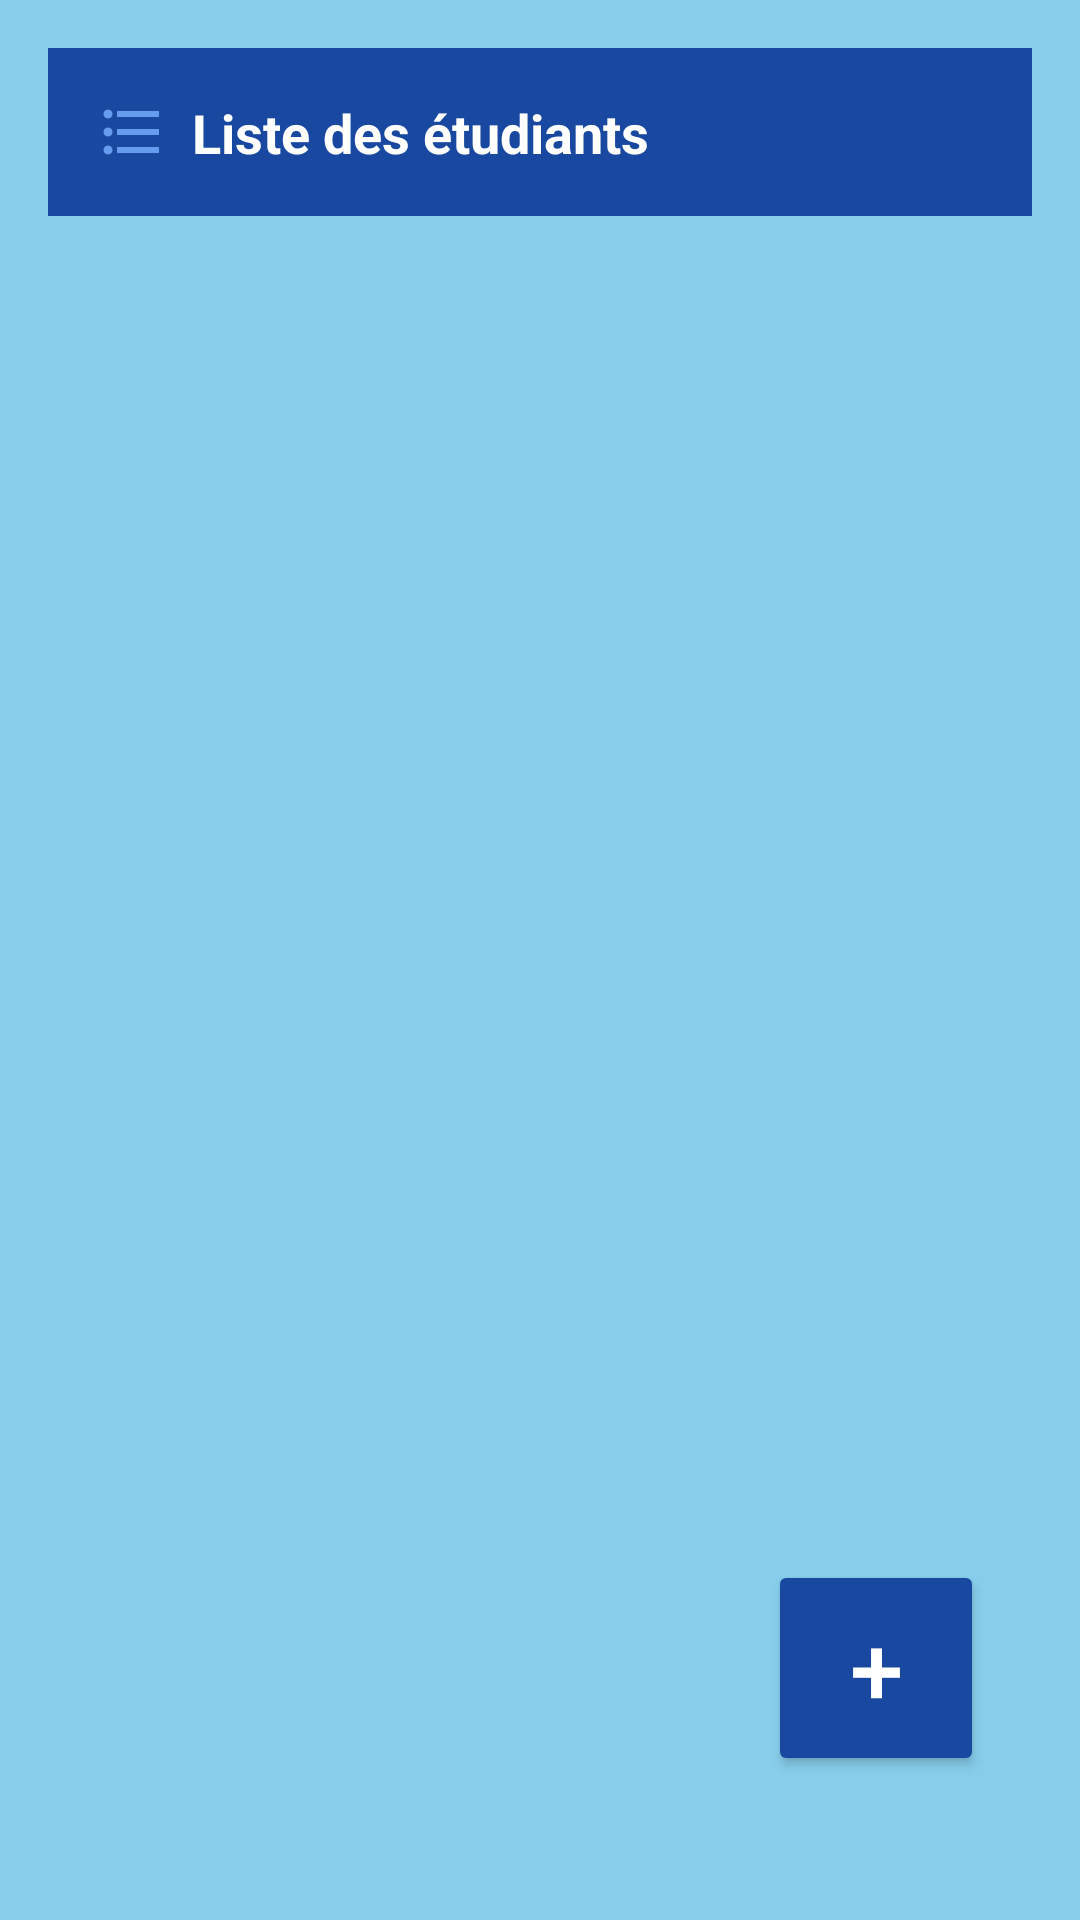

Icons on this 1080*1920 Android screen, each with the point to tap as point (x, y):
Icône liste: point (131, 132)
